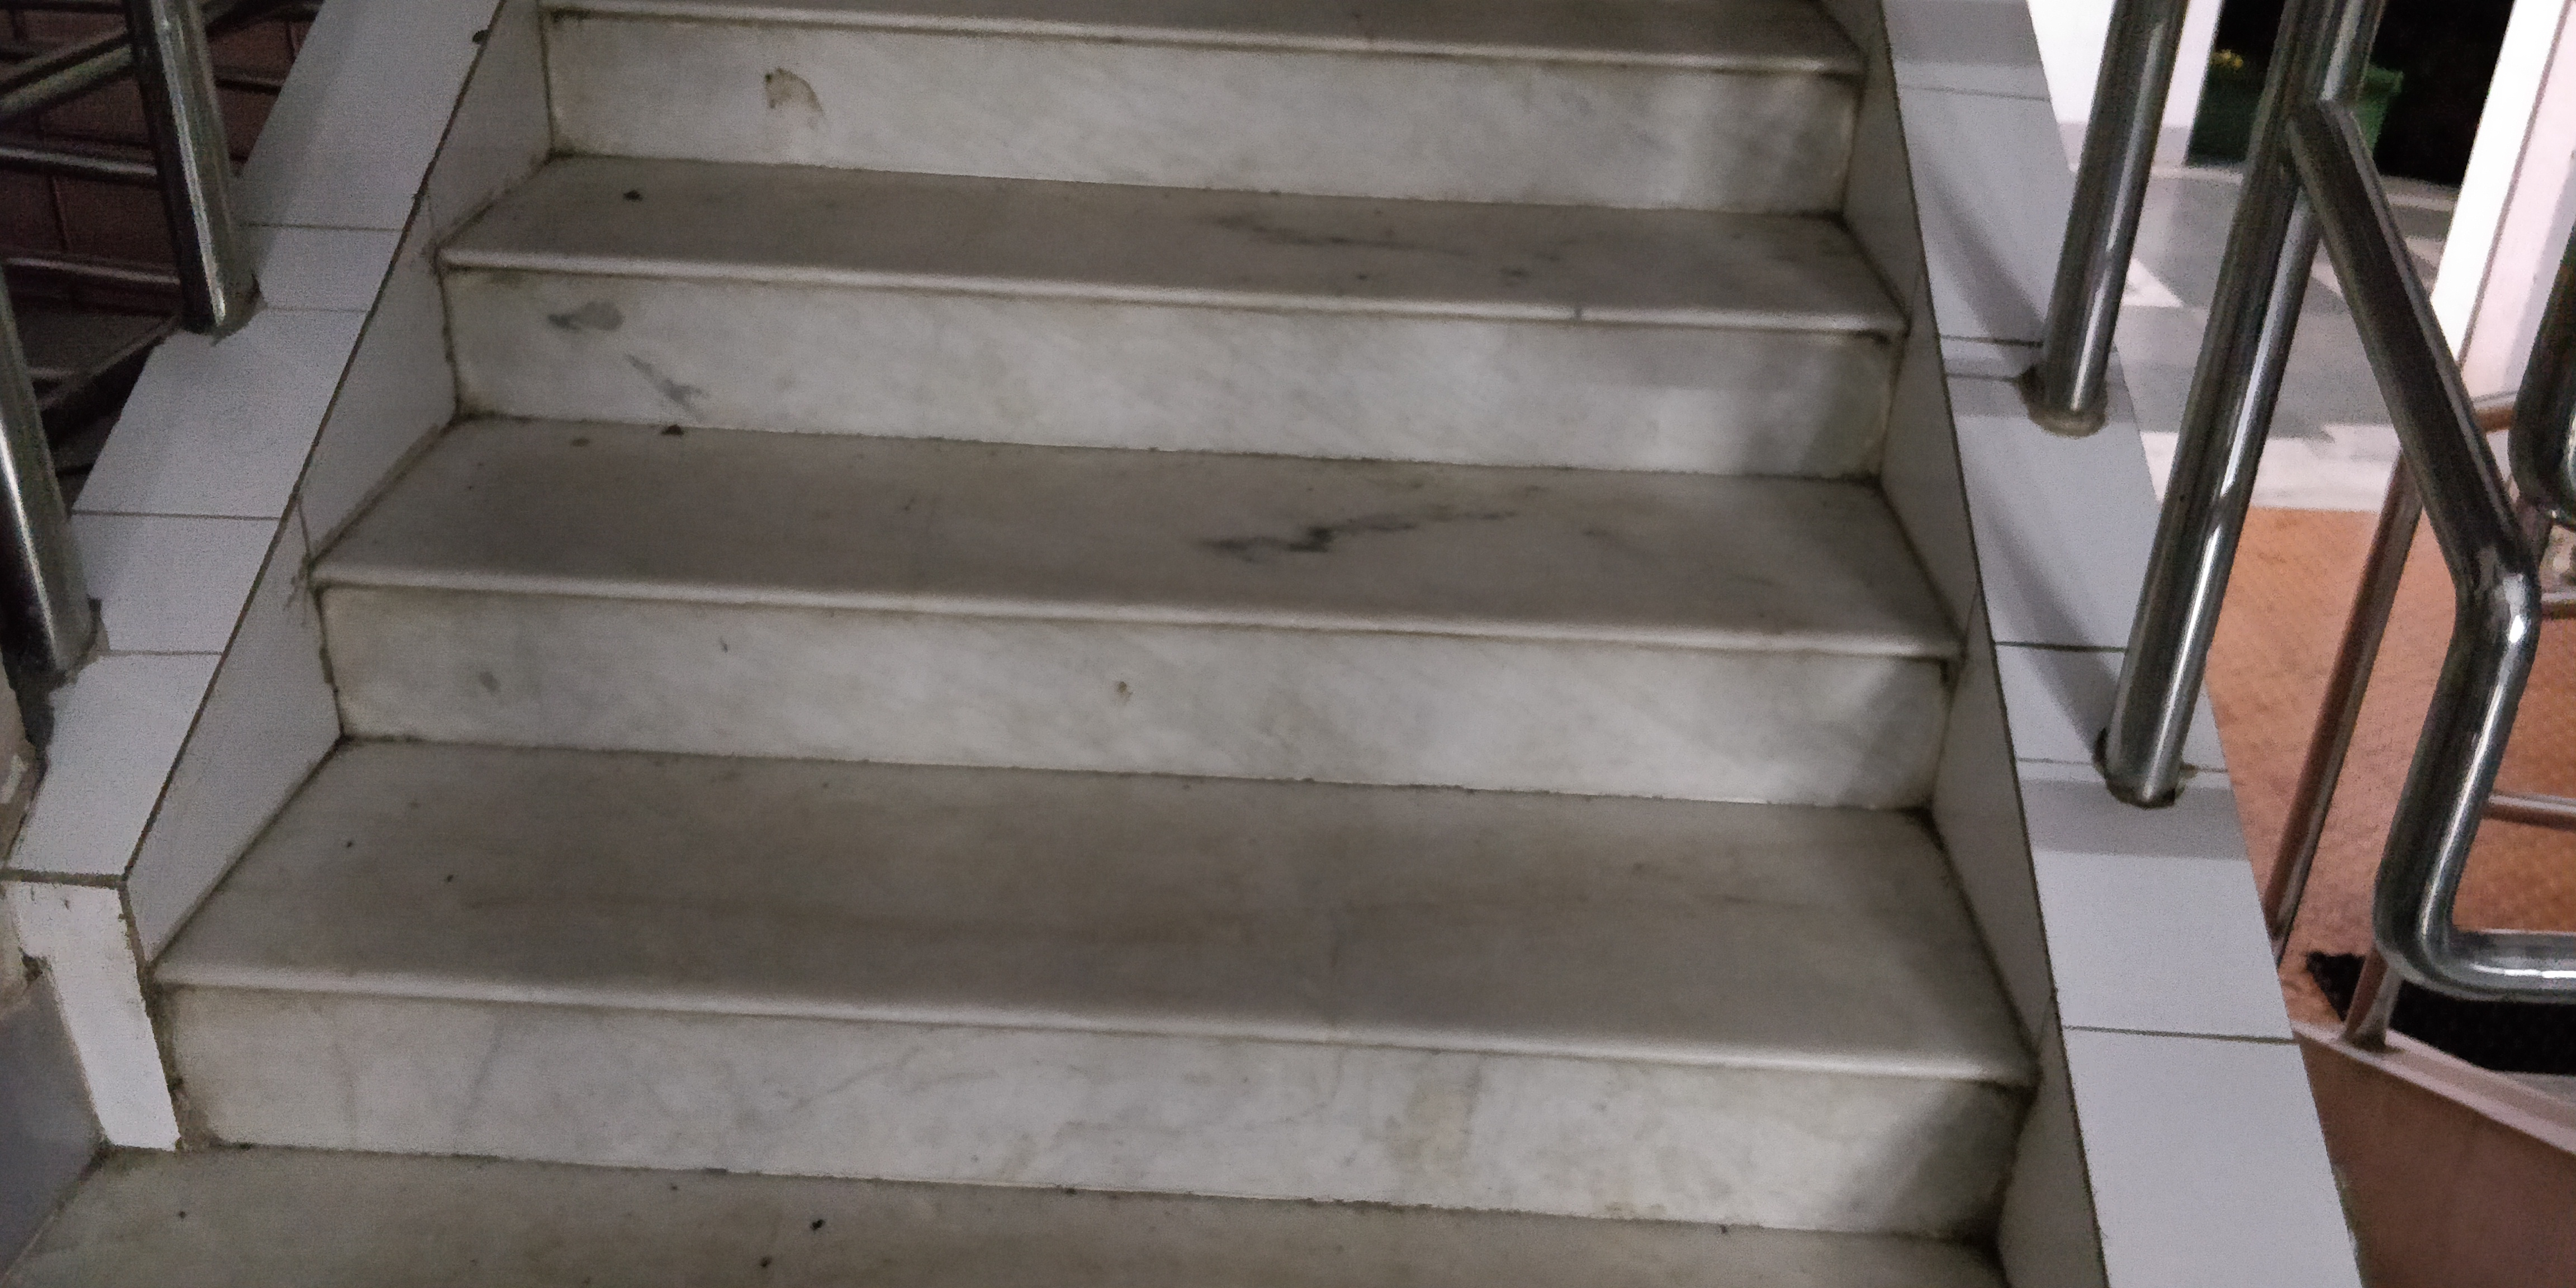stairs_up: (136, 20, 2152, 1227)
